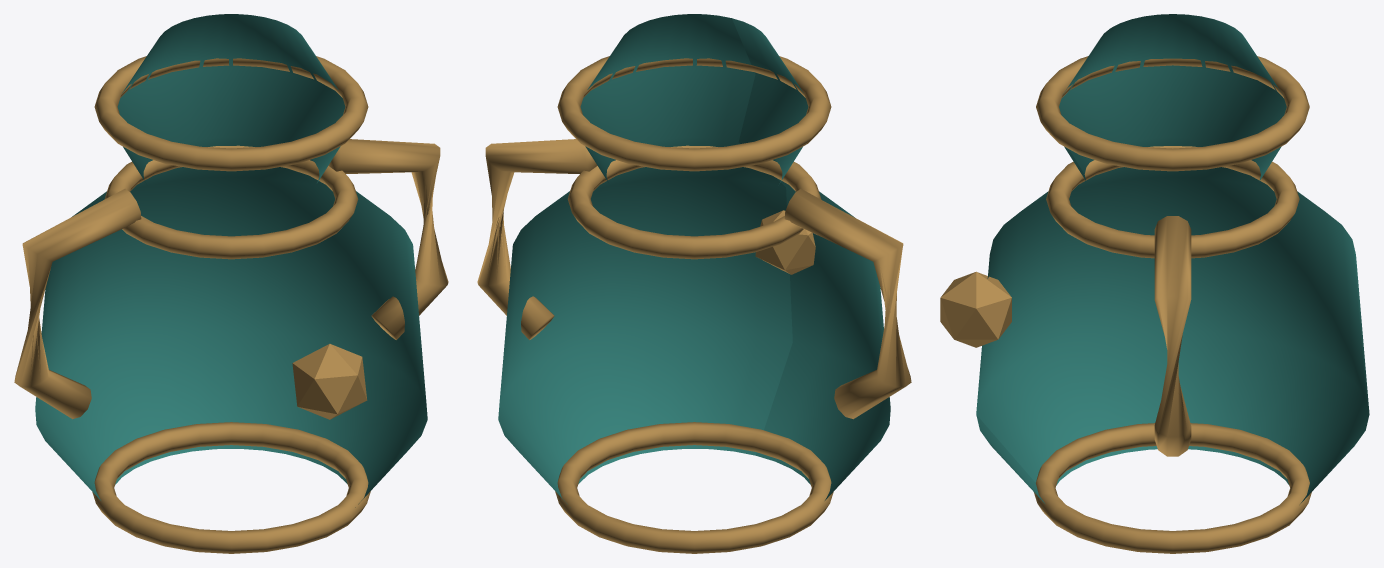
Rendered from CeramicUrn.glb.
The picture shows the model from 3 angles, left to right: view 1: azimuth 30°, elevation 25°; view 2: azimuth 150°, elevation 25°; view 3: azimuth 270°, elevation 25°; orthographic projection.
Parts seen in each view (by area): view 1: CeramicUrn; view 2: CeramicUrn; view 3: CeramicUrn.
Boxes of the visible parts, box(x1,y1,x2,y2) form: CeramicUrn: box(14, 14, 448, 553); CeramicUrn: box(477, 14, 911, 553); CeramicUrn: box(940, 14, 1369, 553).
Size of the model in its own units: 0.7296 by 0.74 by 0.6327.
